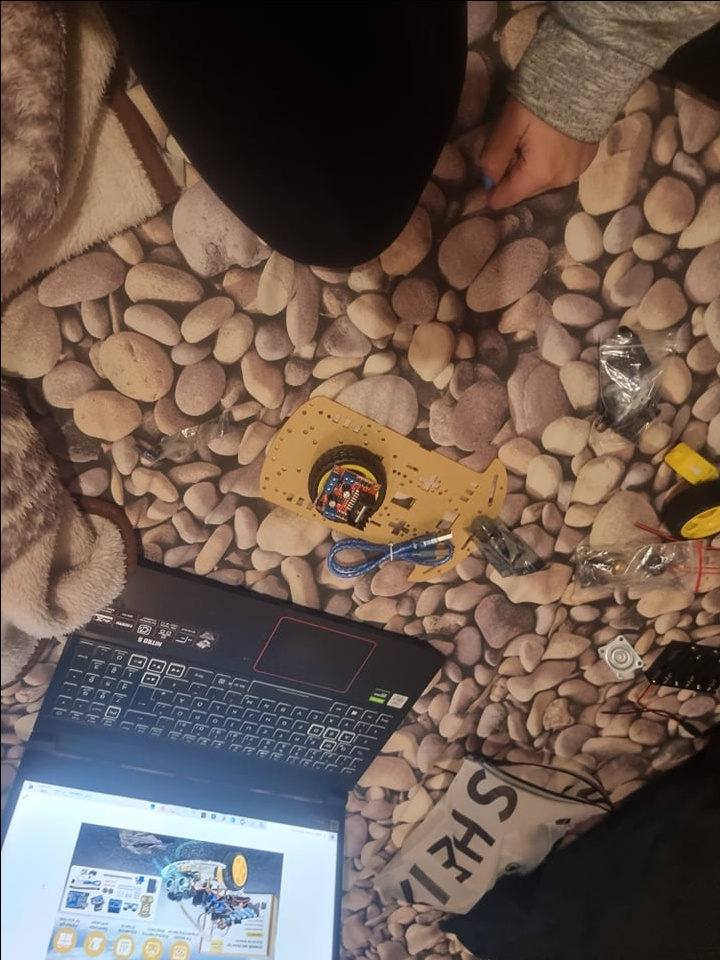BATTERY BOX: (646, 636, 717, 694)
MOTOR: (310, 468, 380, 526)
